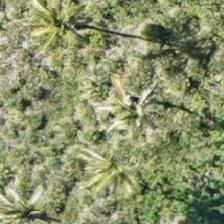coconut_tree: (68, 66, 158, 156), (65, 123, 155, 213), (0, 164, 67, 223)
